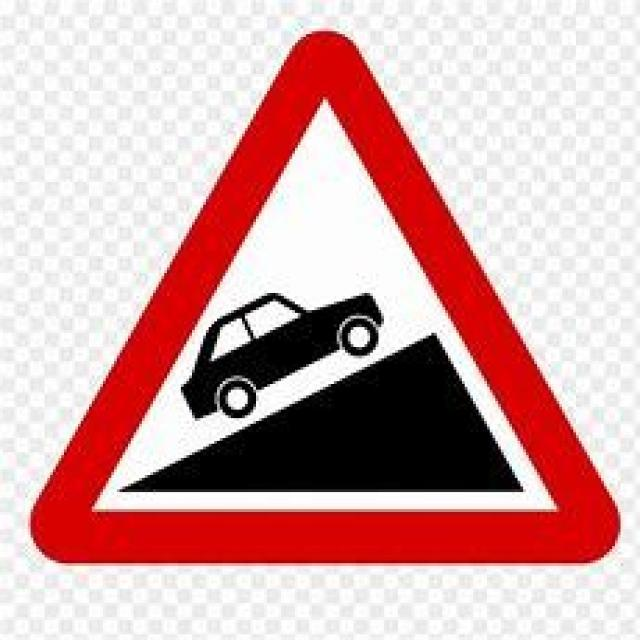steep ascent: (32, 31, 620, 561)
